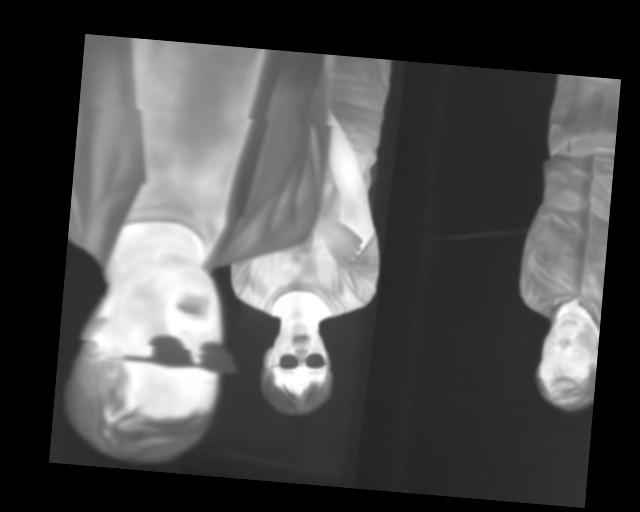face: (63, 253, 230, 471), (258, 317, 338, 419), (531, 308, 600, 415)
